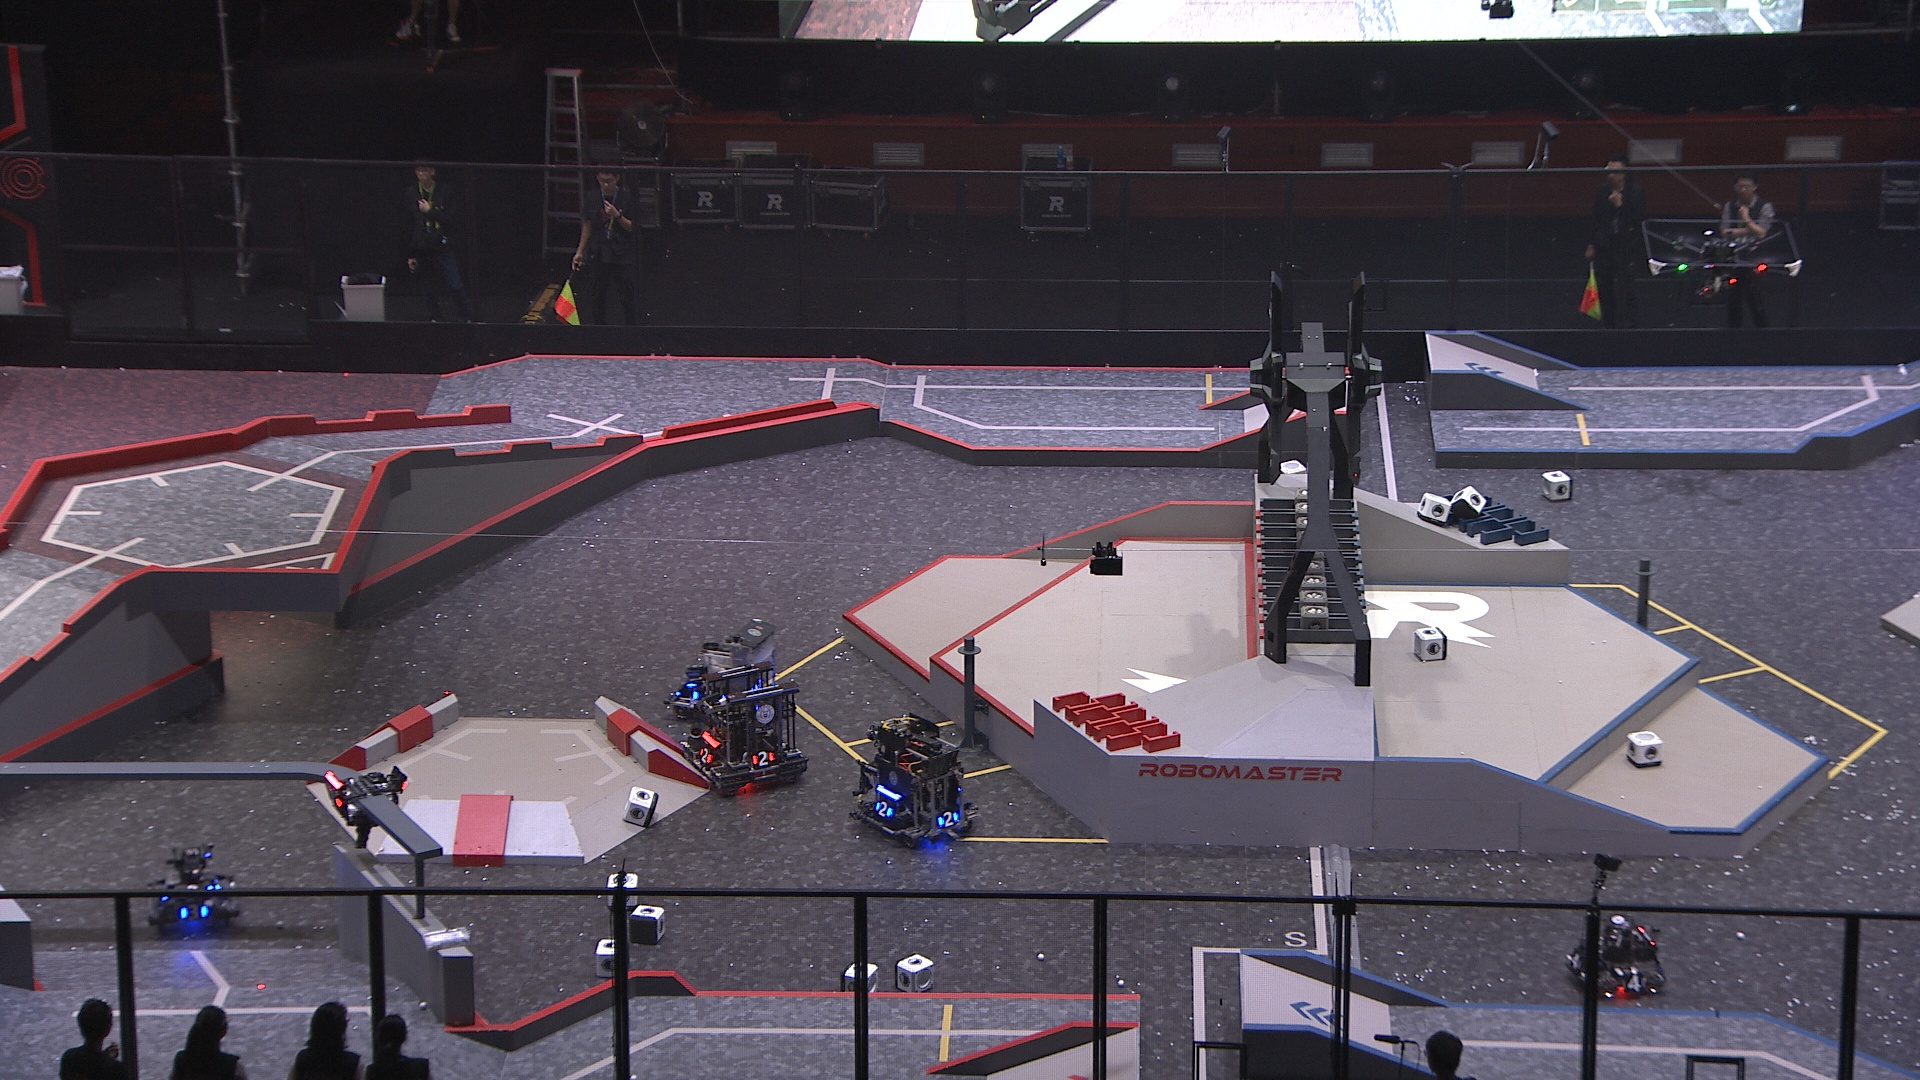armor: (323, 778, 345, 814), (178, 901, 210, 922), (179, 880, 215, 895), (1622, 972, 1647, 993), (749, 749, 775, 769), (683, 669, 704, 692), (935, 808, 959, 829), (872, 800, 894, 820), (1571, 948, 1584, 975), (698, 745, 713, 766)
car: (852, 709, 994, 847), (674, 659, 814, 793), (666, 618, 785, 723), (142, 843, 245, 940), (1560, 913, 1669, 998)
watcher: (318, 760, 410, 847)
